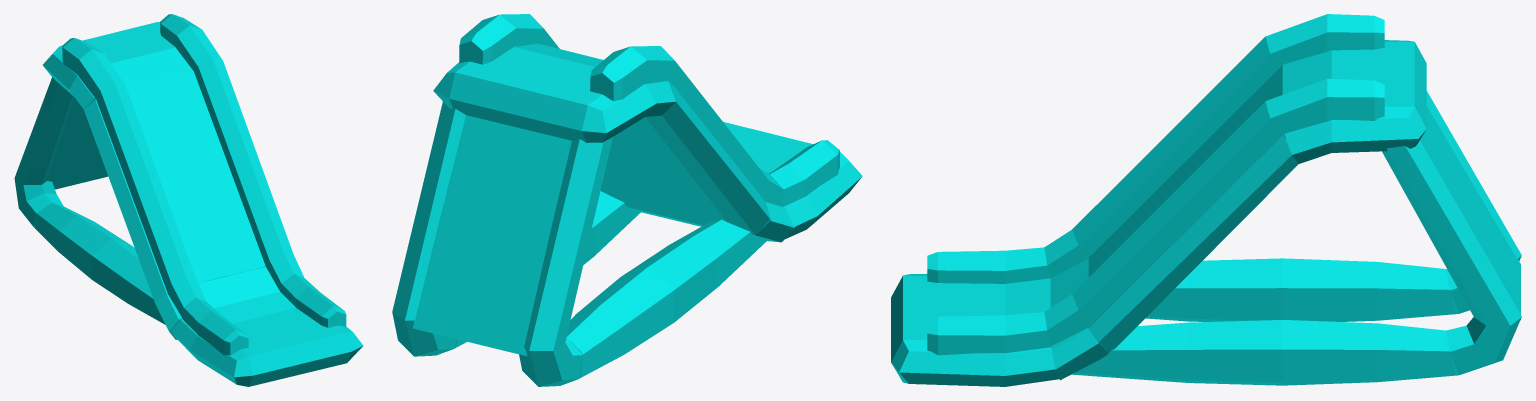
Rendered from SM_Prop_Inflatable_09_Collision.fbx.
3 renders of one model, left to right at view 1: azimuth 30°, elevation 25°; view 2: azimuth 150°, elevation 25°; view 3: azimuth 270°, elevation 25°, orthographic. The views are drawn at different scales.
Parts seen in each view (by area): view 1: SM_Prop_Inflatable_09_Collision; view 2: SM_Prop_Inflatable_09_Collision; view 3: SM_Prop_Inflatable_09_Collision.
Part boxes in pixels (bbox=[...]): SM_Prop_Inflatable_09_Collision: bbox=[14, 14, 363, 386]; SM_Prop_Inflatable_09_Collision: bbox=[392, 14, 862, 386]; SM_Prop_Inflatable_09_Collision: bbox=[891, 14, 1521, 386].
Size of the model in its own units: 252 by 379 by 704.
